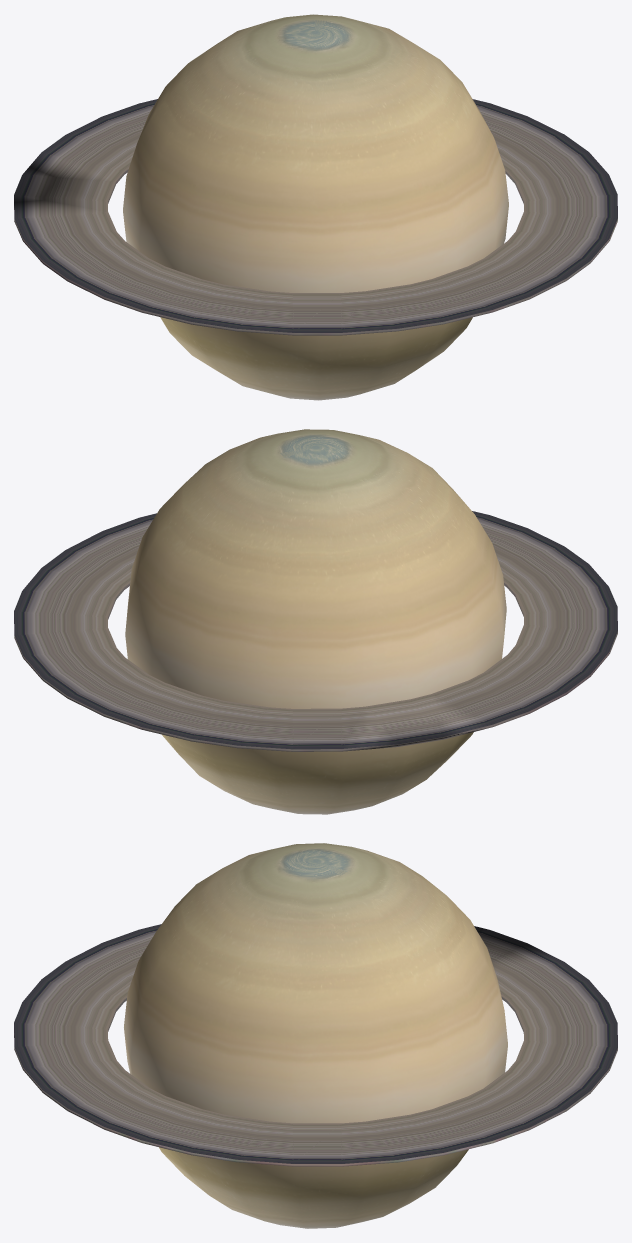
The model's file is ENV2810003.fbx.
3 renders of one model, top to bottom at view 1: azimuth 30°, elevation 25°; view 2: azimuth 150°, elevation 25°; view 3: azimuth 270°, elevation 25°, orthographic.
Parts seen in each view (by area): view 1: smENV2810003; view 2: smENV2810003; view 3: smENV2810003.
Boxes of the visible parts, x1=… form: smENV2810003: x1=14, y1=14, x2=617, y2=400; smENV2810003: x1=14, y1=429, x2=617, y2=814; smENV2810003: x1=14, y1=843, x2=617, y2=1228.
Size of the model in its own units: 1186 by 758 by 1185.
Materials: 1 (1 with a texture image).
